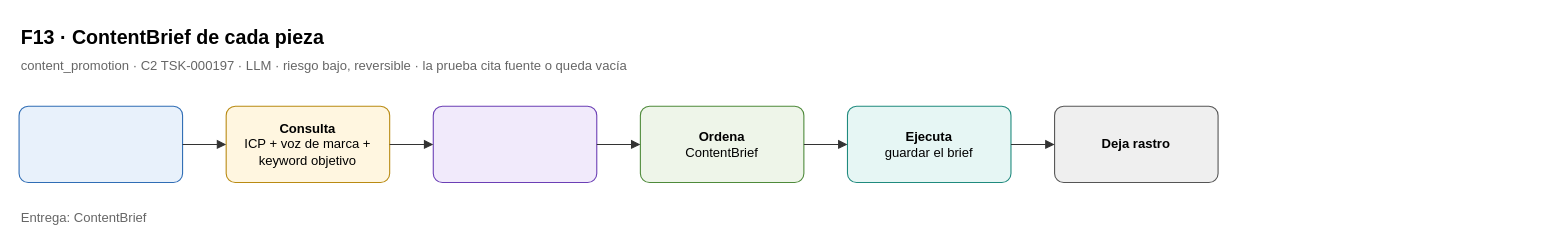
Some shapes in this 1564 by 249 pixel diagram are drawn without their labels. Here are the shapes that lost their labels. From the top down, the box of each, then its label:
(18, 105, 183, 183): Recibe entrada nueva en el calendario
(432, 105, 597, 183): Decide objetivo, mensaje, prueba y CTA
